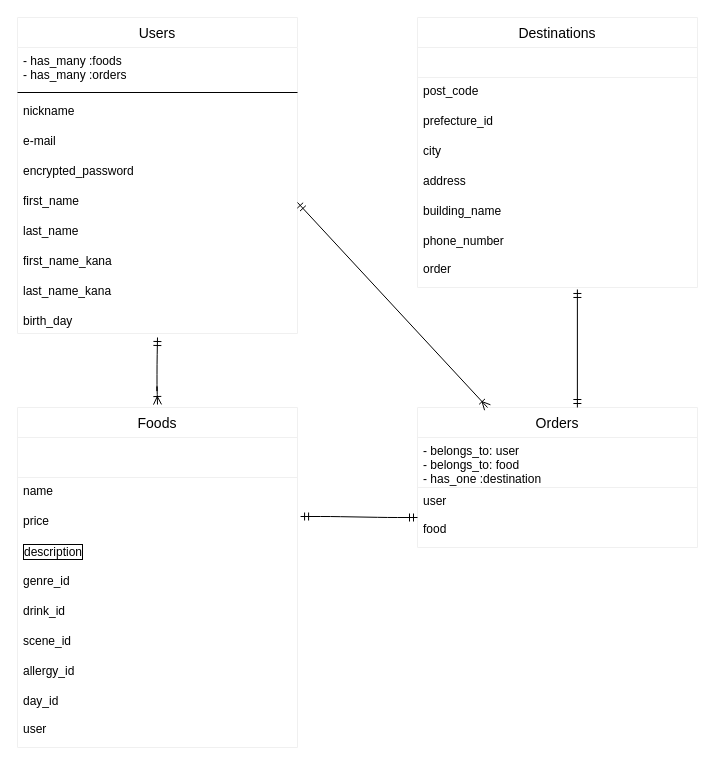
Image size: 715x768. Some labels were removed from this diagram. Here are the shapes that lost their labels. From the top down, the centre of each, then its label:
(x=557, y=62): - belongs_to : order
(x=157, y=457): - belongs_to: user - has_one : order
